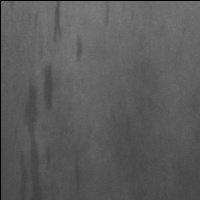inclusion: (16, 68, 43, 200), (38, 58, 63, 117), (66, 152, 90, 195), (48, 1, 68, 47), (68, 32, 87, 65), (99, 1, 116, 31)
